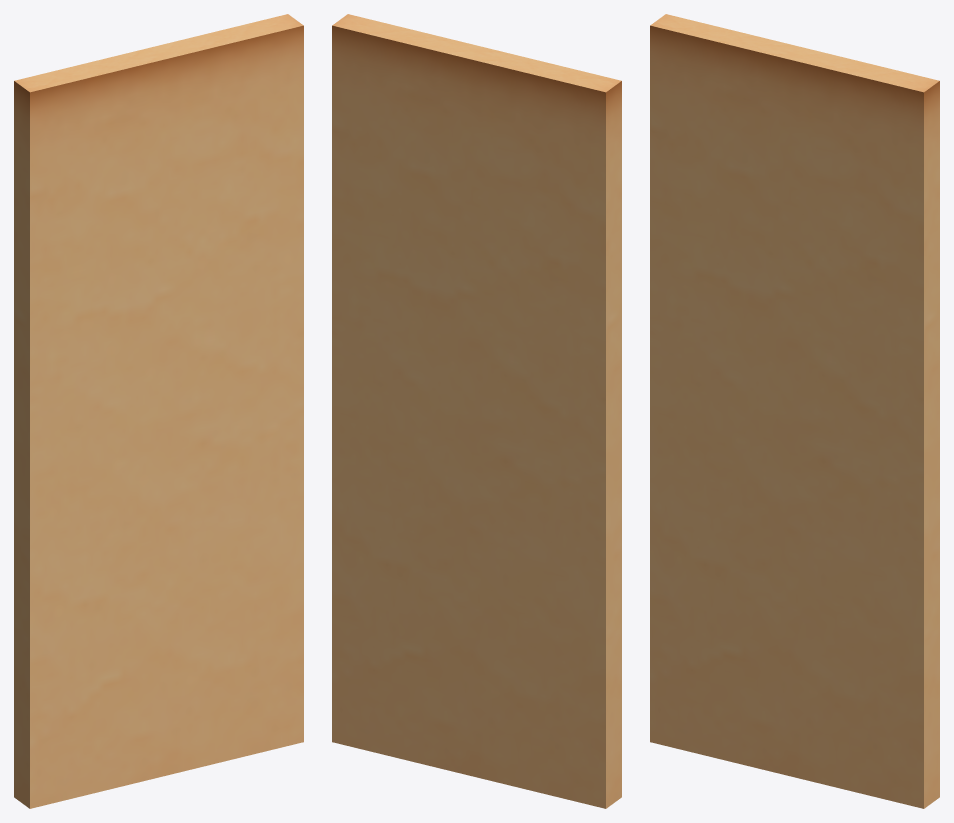
The model's file is Wall_Plain.fbx.
3 views of the same model, side by side, from view 1: azimuth 30°, elevation 25°; view 2: azimuth 150°, elevation 25°; view 3: azimuth 330°, elevation 25° (orthographic).
Parts seen in each view (by area): view 1: Wall_Plain; view 2: Wall_Plain; view 3: Wall_Plain.
Part boxes in pixels (<box>): Wall_Plain: <box>14,14,303,808</box>; Wall_Plain: <box>332,14,621,808</box>; Wall_Plain: <box>650,14,939,808</box>.
Bounding box in the file's own units: 1 × 2.5 × 0.1.
